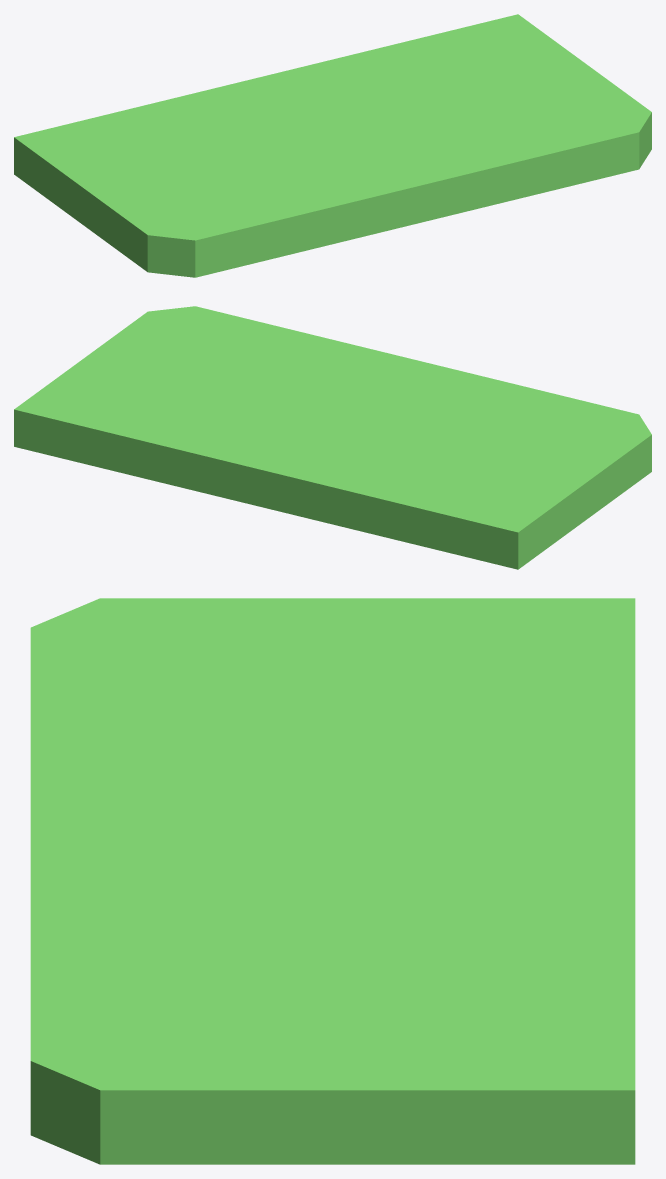
Rendered from sm_Collider3.fbx.
3 views of the same model, one above another, from view 1: azimuth 30°, elevation 25°; view 2: azimuth 150°, elevation 25°; view 3: azimuth 270°, elevation 25° (orthographic). The views are drawn at different scales.
Visible parts, largest first — view 1: sm_Collider.002; view 2: sm_Collider.002; view 3: sm_Collider.002.
Part boxes in pixels (x1,y1,x2,y2): sm_Collider.002: [14, 14, 651, 277]; sm_Collider.002: [14, 306, 651, 569]; sm_Collider.002: [30, 598, 635, 1164].
Bounding box in the file's own units: 1055 × 74.45 × 548.
